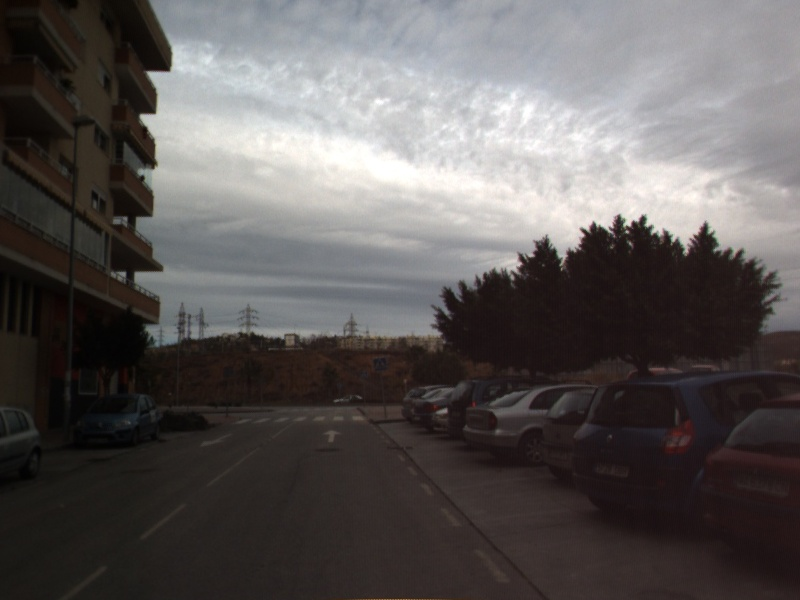STRAIGHT: (321, 428, 344, 444)
